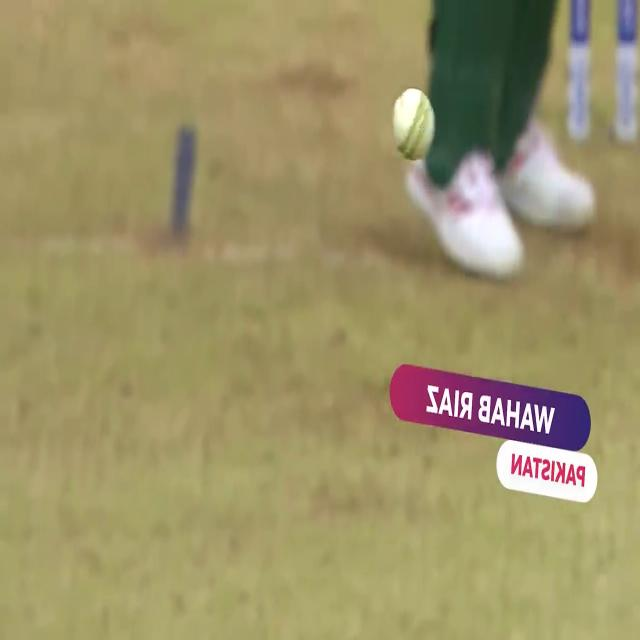ball: (388, 89, 438, 160)
